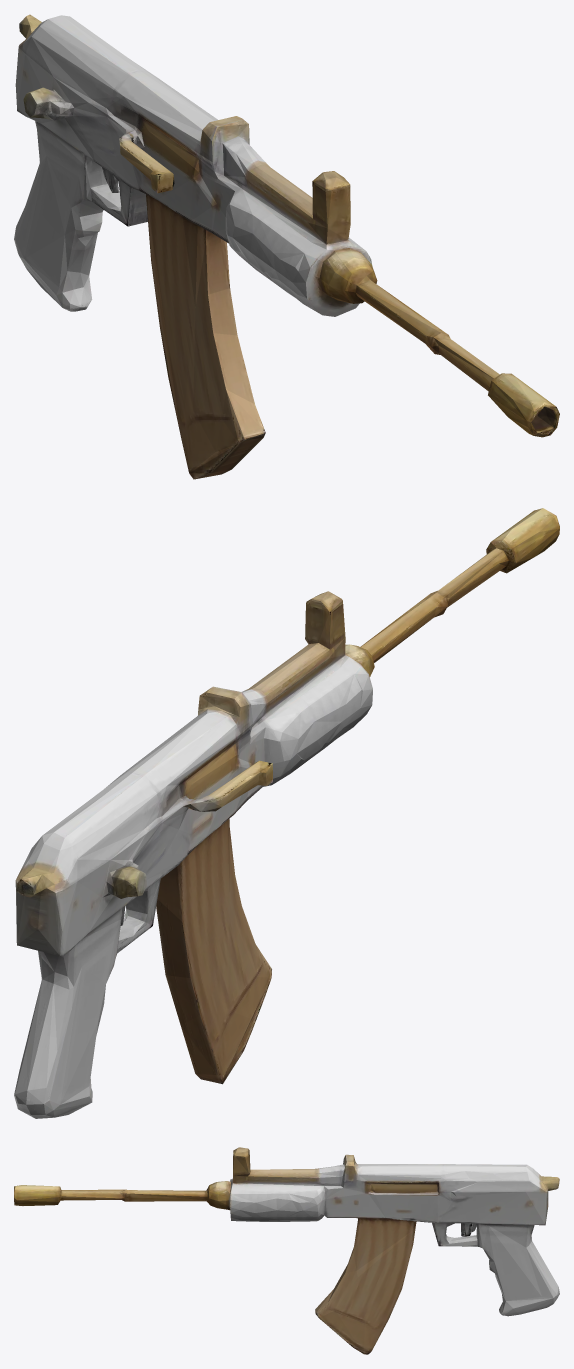
The model's file is white_mac.glb.
3 renders of one model, top to bottom at view 1: azimuth 30°, elevation 25°; view 2: azimuth 150°, elevation 25°; view 3: azimuth 270°, elevation 25°, orthographic. The views are drawn at different scales.
Visible parts, largest first — view 1: geometry_0; view 2: geometry_0; view 3: geometry_0.
Part boxes in pixels (box(x1,y1,x2,y2)): geometry_0: box(14, 14, 559, 479); geometry_0: box(14, 508, 559, 1118); geometry_0: box(14, 1147, 559, 1354).
Size of the model in its own units: 0.1039 by 0.4132 by 0.9937.
1 material, 1 textured.
